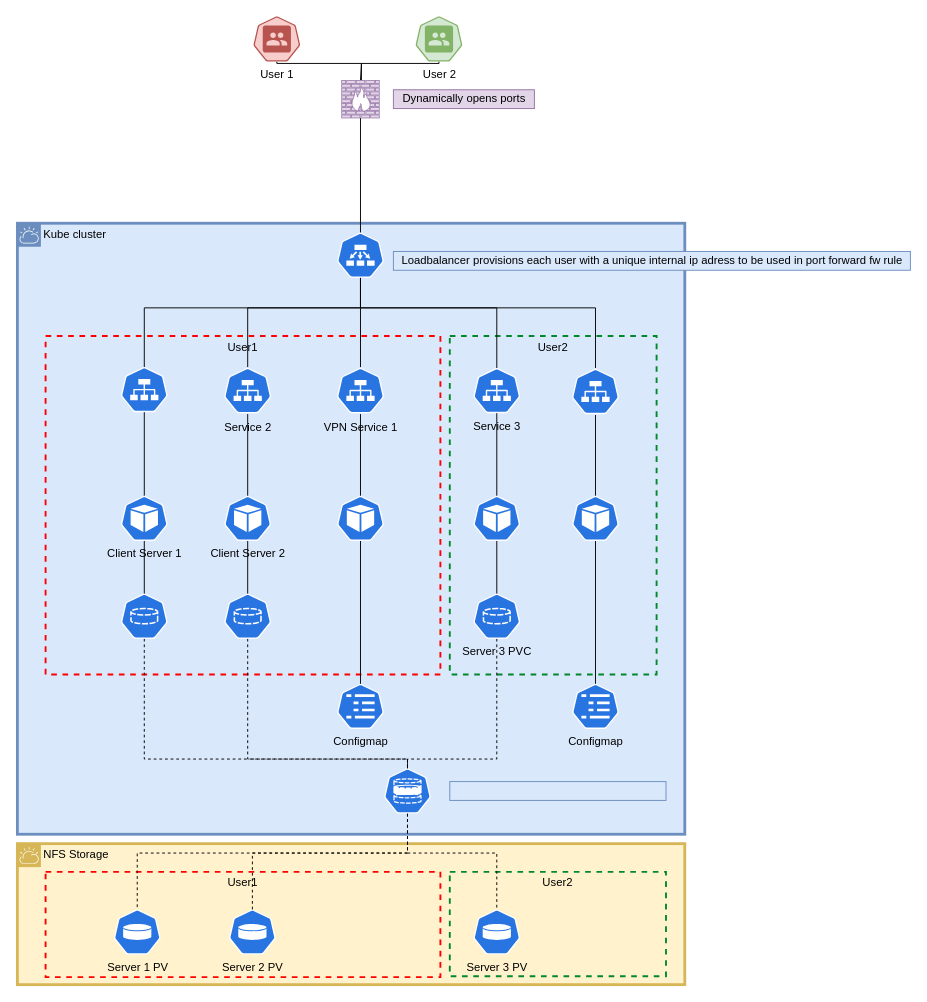
Some shapes in this 927 by 1002 pixel diagram are drawn without their labels. Each missing label, with the centre of its shape:
"Client Server 3" belongs at (496,518).
"Firewall" belongs at (360,98).
"Loadbalancer" belongs at (360,255).
"Server 1 PVC" belongs at (144,616).
"Server 2 PVC" belongs at (247,616).
"Service 1" belongs at (144,389).
"Storage class dynamically provisions PV" belongs at (557,790).
"Storage Class NFS" belongs at (407,791).
"VPN Server 1" belongs at (360,518).
"VPN Server 2" belongs at (595,518).
"VPN Service 2" belongs at (595,391).
